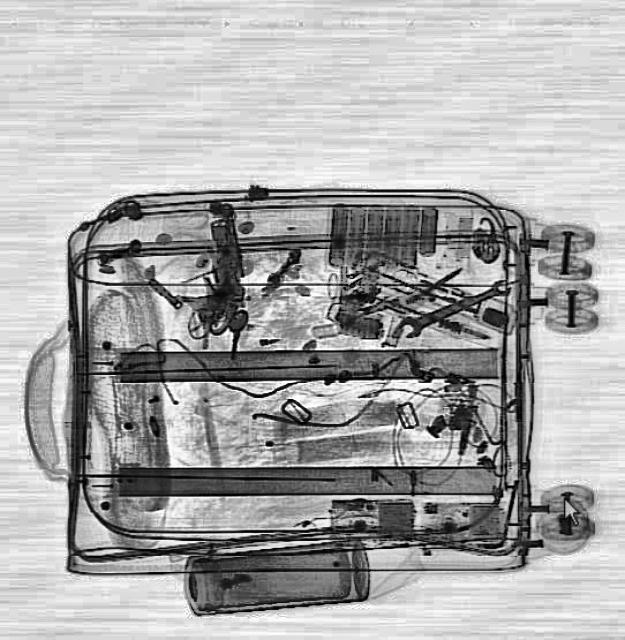Wrench: (392, 272, 514, 341)
